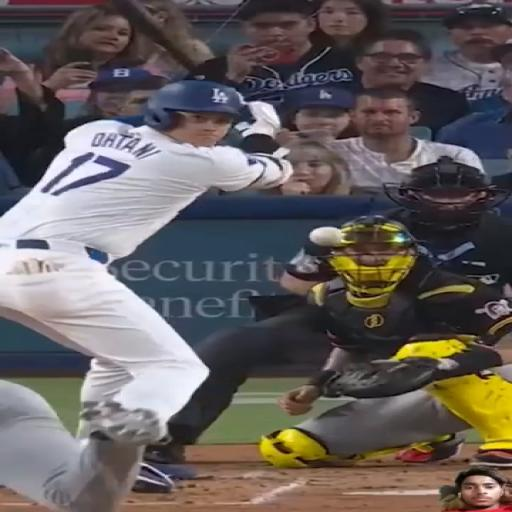bat: (109, 0, 196, 71)
